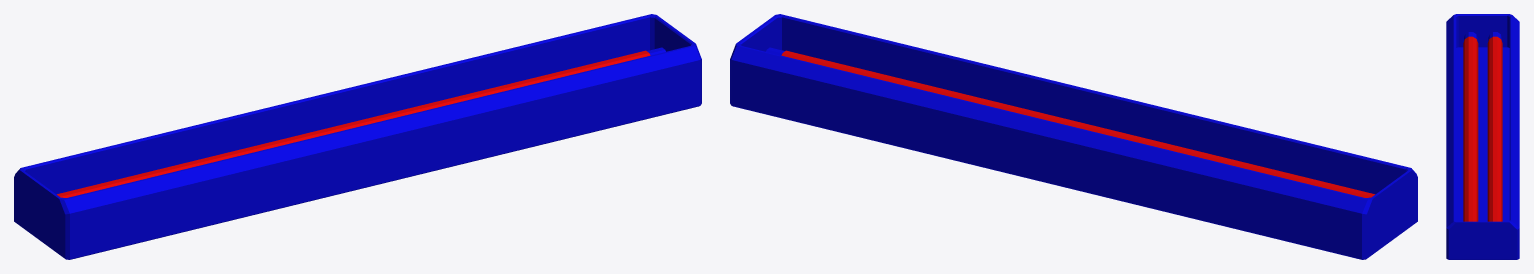
The model's file is OverheadLightBase.fbx.
The picture shows the model from 3 angles, left to right: view 1: azimuth 30°, elevation 25°; view 2: azimuth 150°, elevation 25°; view 3: azimuth 270°, elevation 25°; orthographic projection. The views are drawn at different scales.
Visible parts, largest first — view 1: OverheadLight; view 2: OverheadLight; view 3: OverheadLight.
Part boxes in pixels (bbox=[...]): OverheadLight: bbox=[14, 14, 701, 259]; OverheadLight: bbox=[730, 14, 1417, 259]; OverheadLight: bbox=[1446, 14, 1519, 259].
Size of the model in its own units: 684 by 58.16 by 101.
